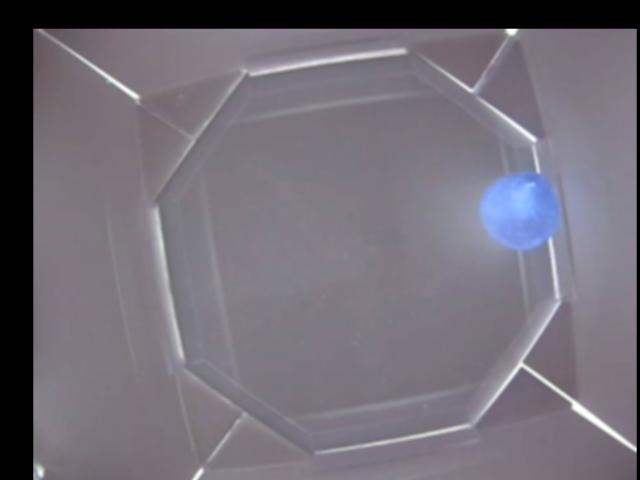Potato: (481, 167, 562, 244)
